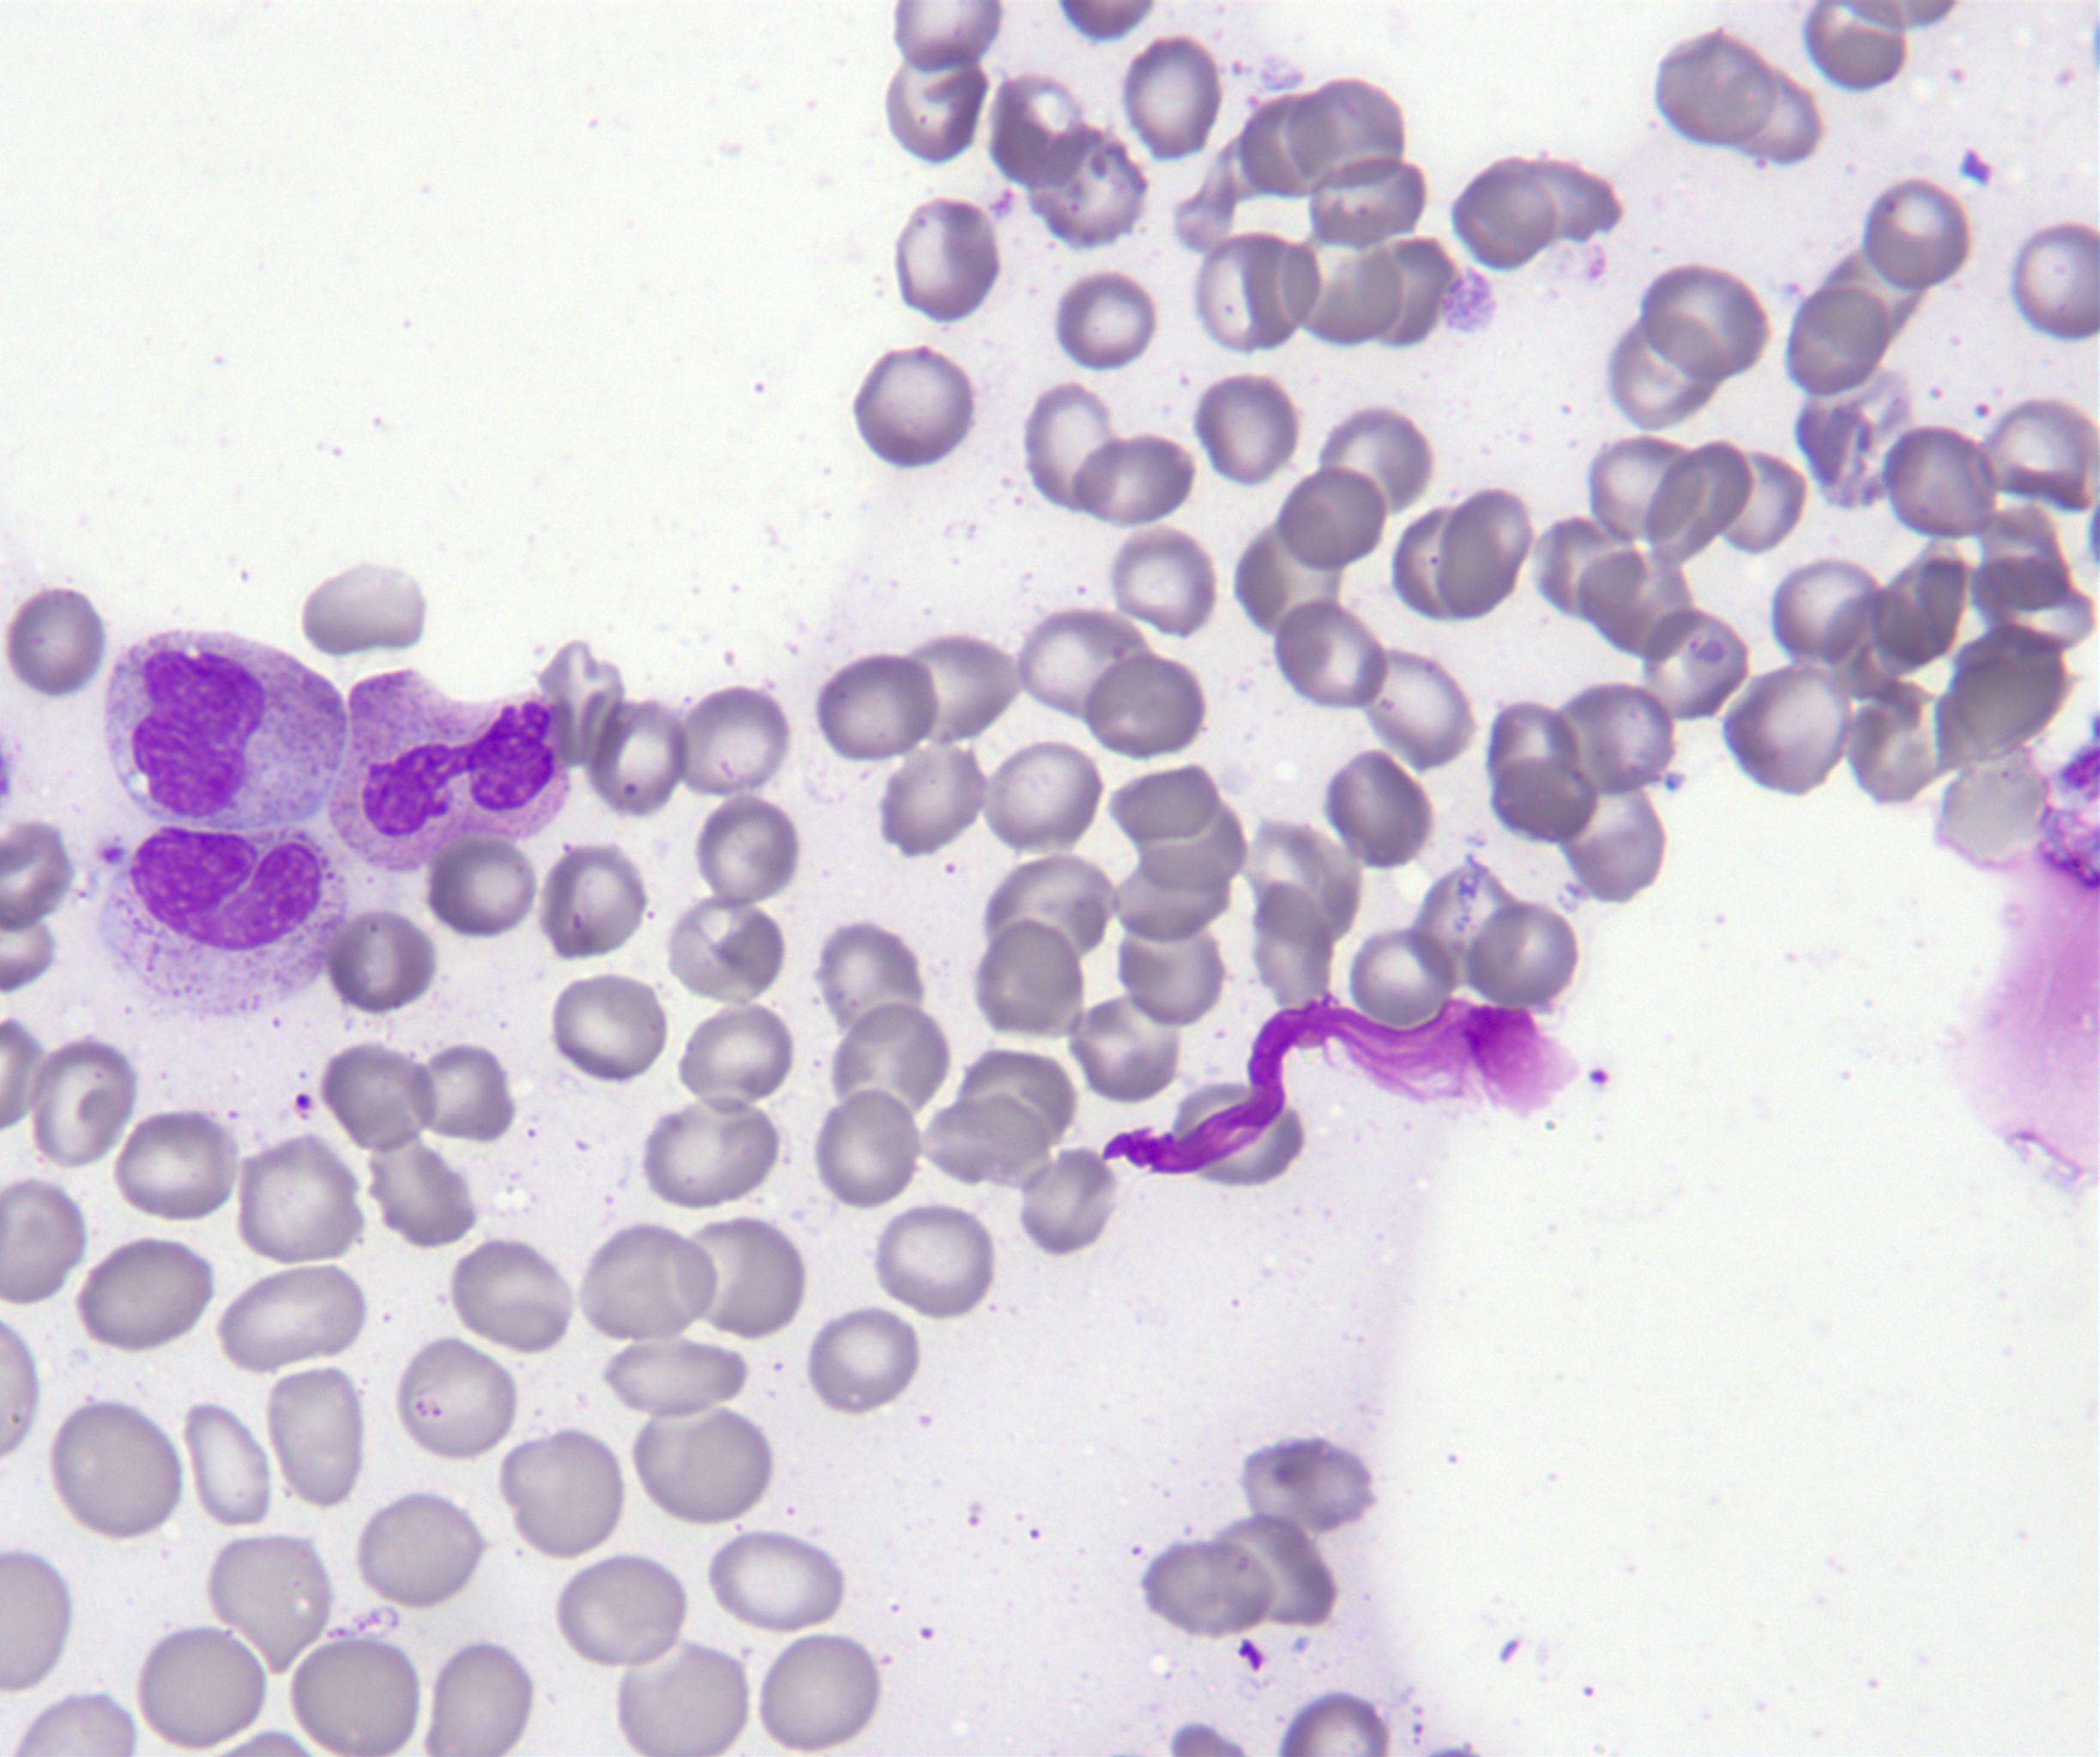4: (105, 630, 347, 831)
5: (96, 827, 347, 1015)
6: (328, 672, 572, 874)
x: (1099, 996, 1578, 1178)
